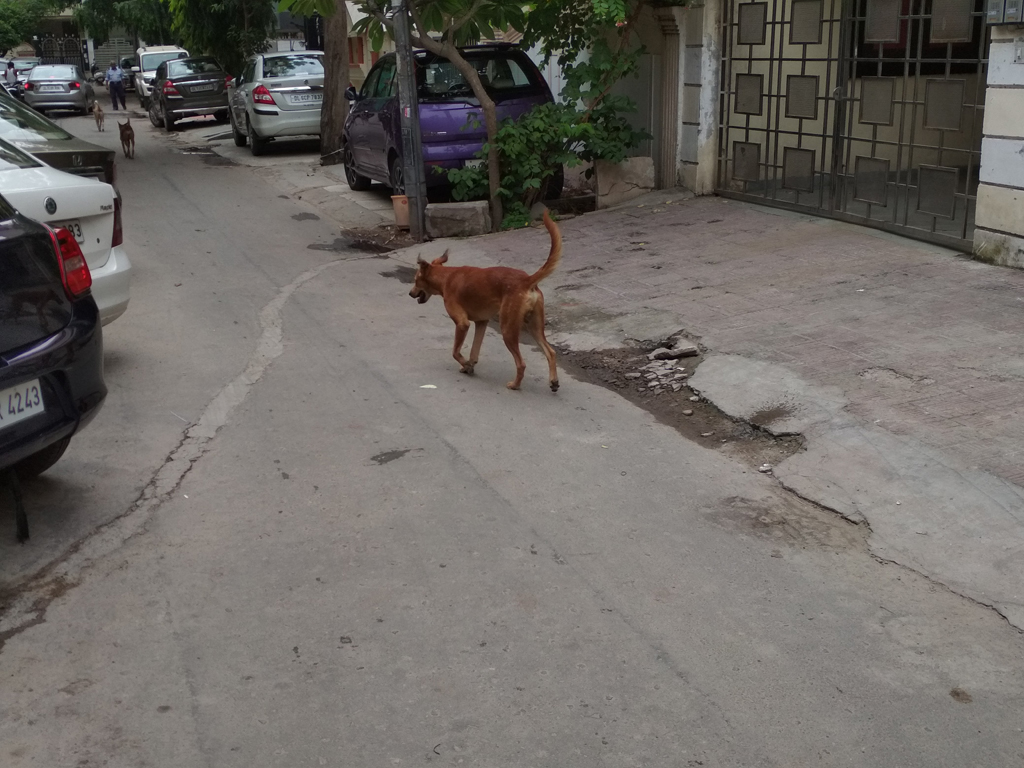dog: (408, 209, 567, 395)
